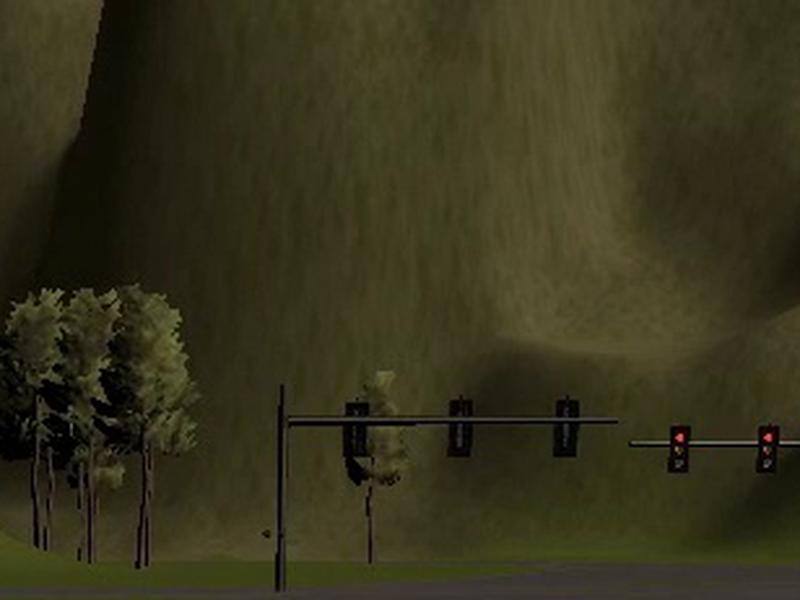Red: (667, 426, 691, 473), (756, 425, 779, 472)
